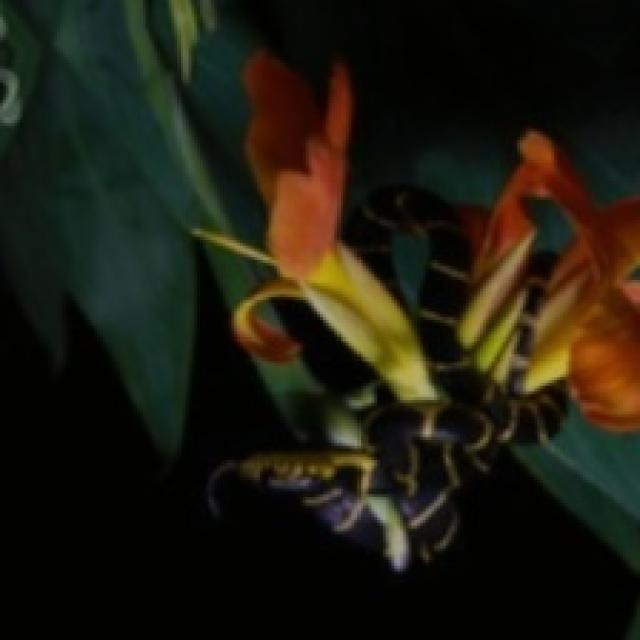mangrove cat snake: (231, 131, 637, 569)
